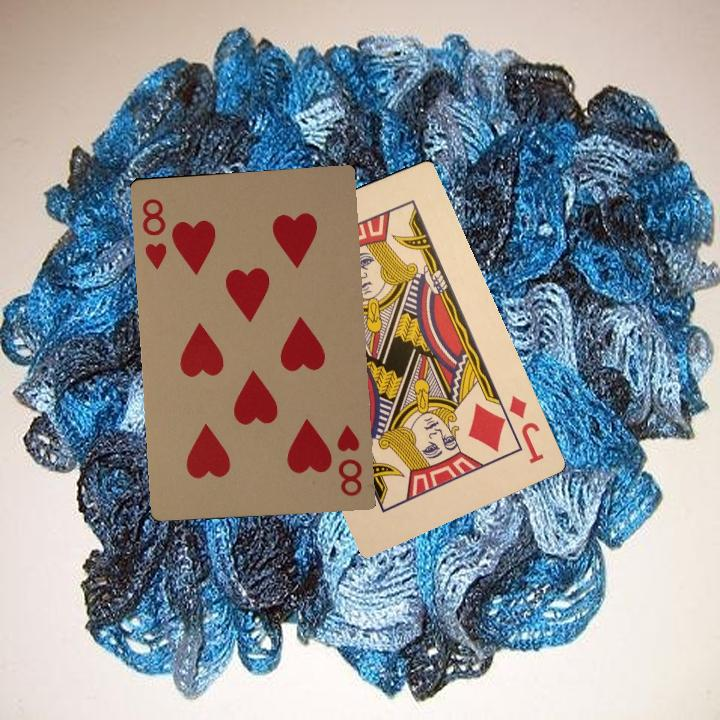8h: (333, 421, 365, 499), (138, 194, 170, 270)
Jd: (504, 391, 547, 467)
